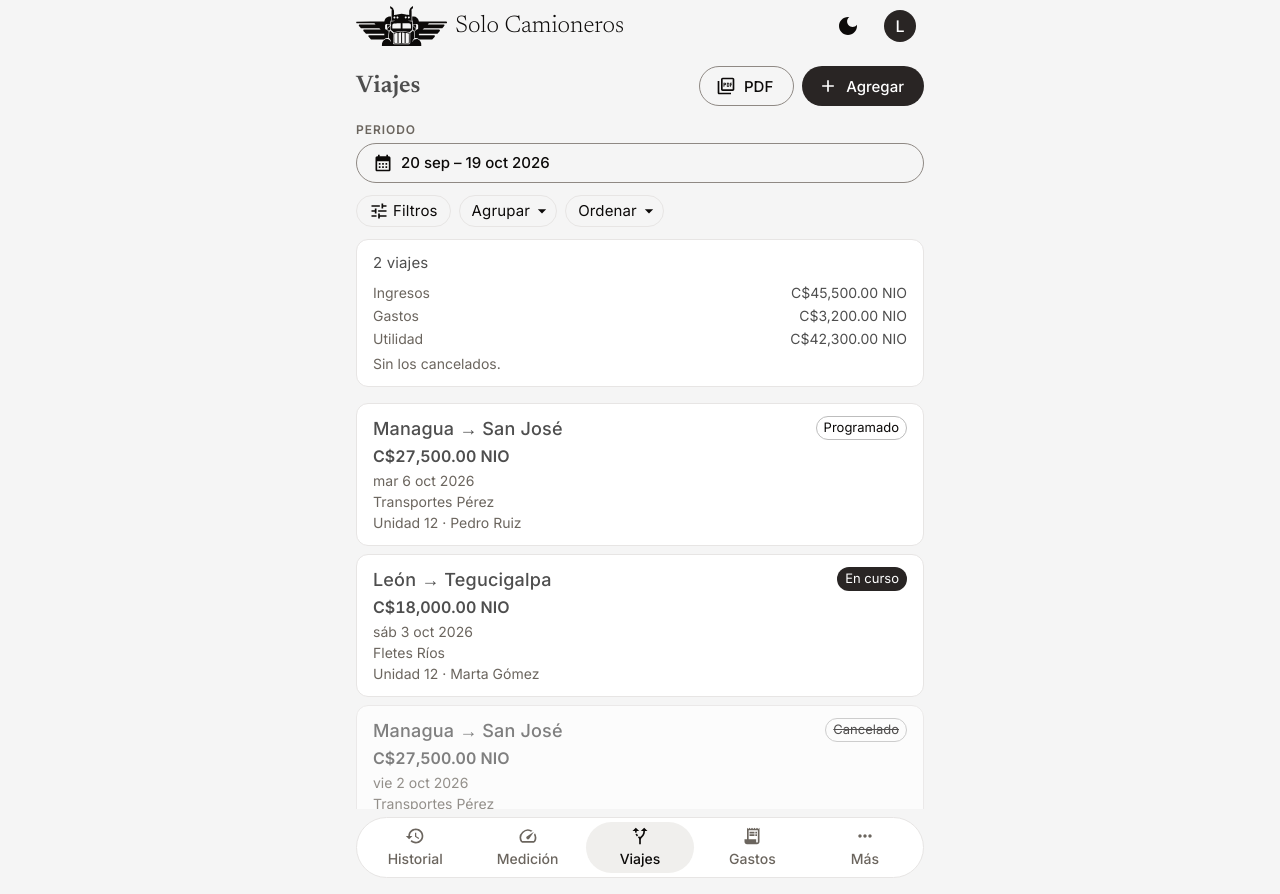
it: filter, group and sort › grouped by driver: what each one brought in
This screenshot has width=1280, height=894.
Expected: the list named "Viajes" is shown, [356,403,924,848]
Click the button "Agrupar". click: (508, 211)
box: [460,196,556,226]
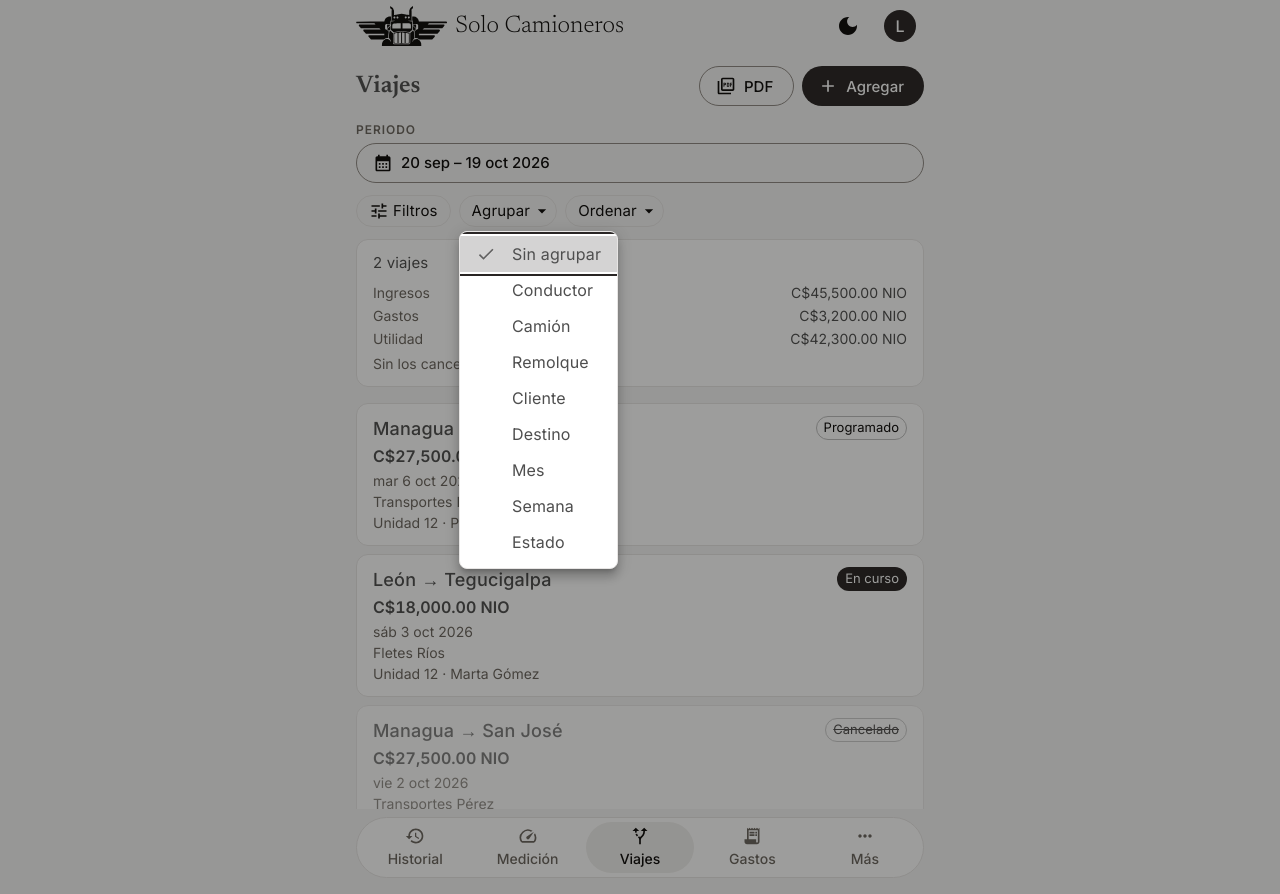
Click the menu item "Conductor". click: (553, 290)
box: [512,280,593,300]
(page scrolled)
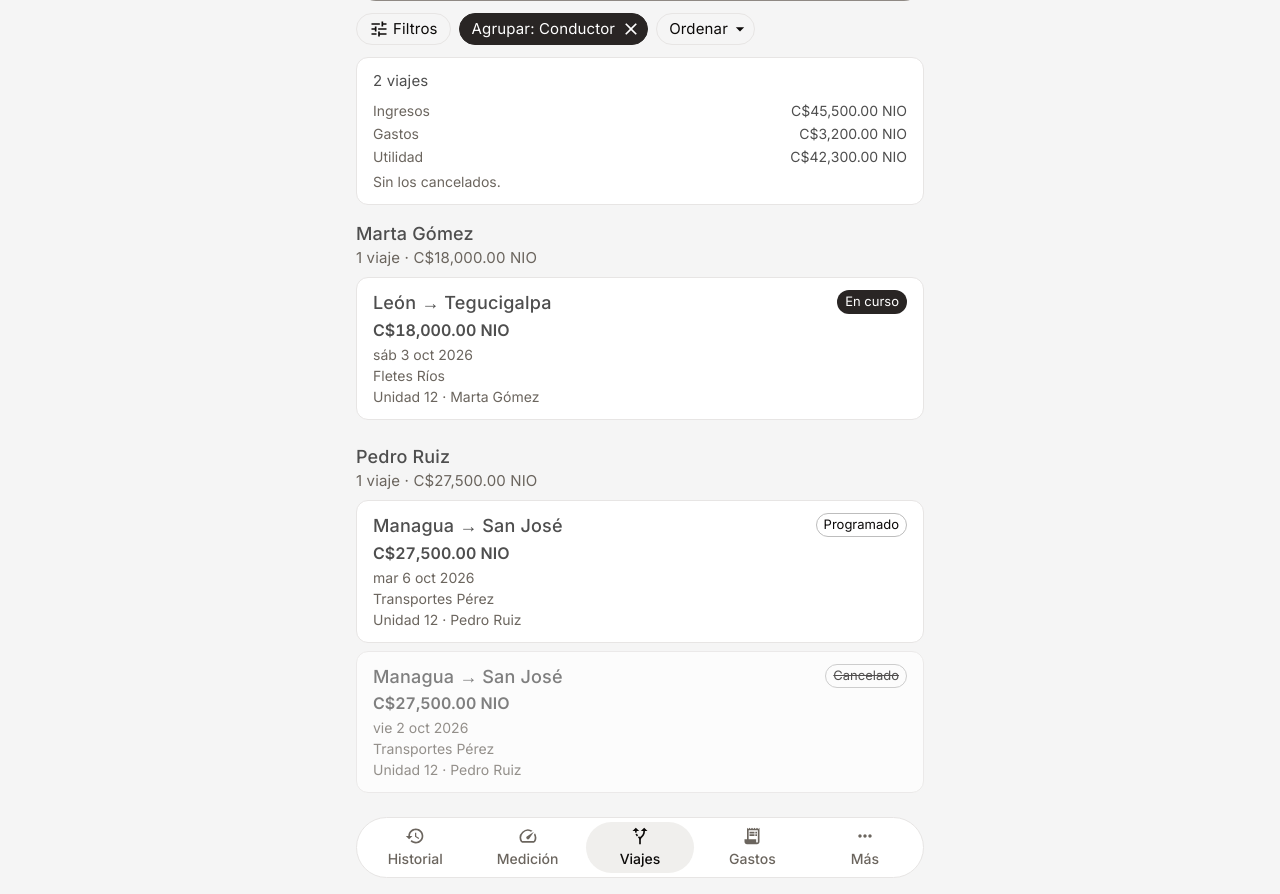
Expected: the headings read "Marta Gómez", "Pedro Ruiz", in this order, [356,223,474,244]; [356,446,450,467]
Expected: the element "Pedro Ruiz" shows "1 viaje · C$27,500.00 NIO", [356,471,538,490]
